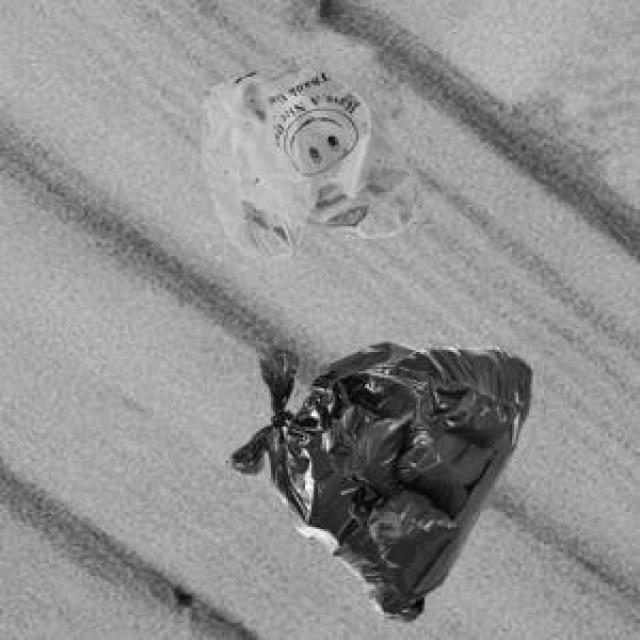miscellaneous trash: (224, 339, 527, 617), (320, 378, 518, 600)
